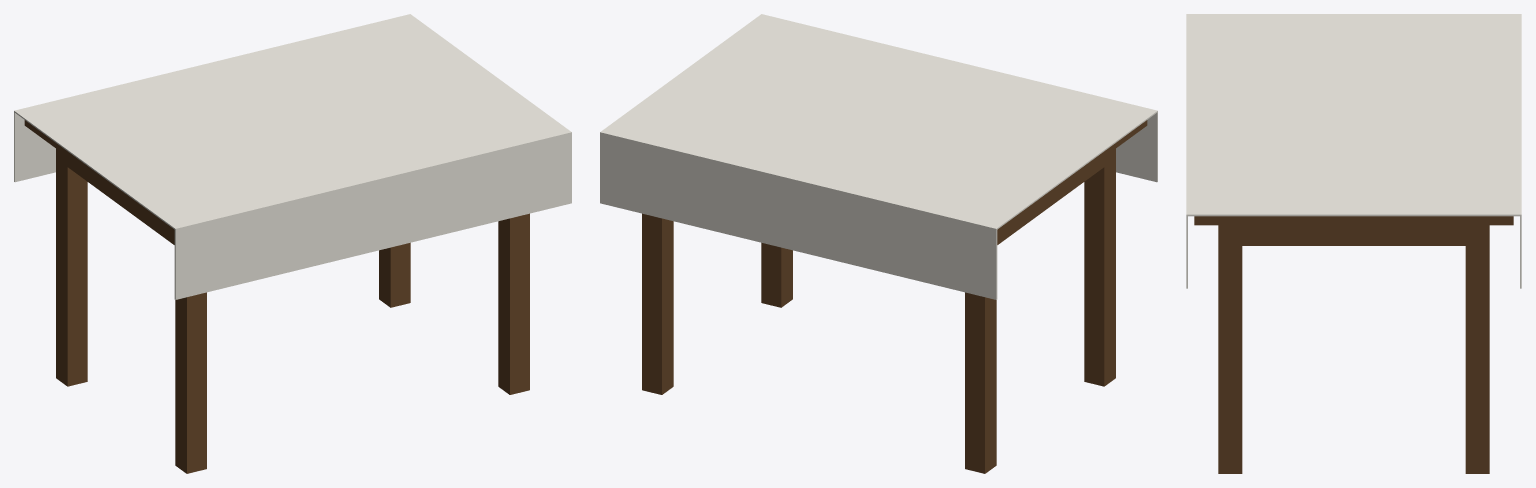
The picture shows the model from 3 angles, left to right: view 1: azimuth 30°, elevation 25°; view 2: azimuth 150°, elevation 25°; view 3: azimuth 270°, elevation 25°; orthographic projection. The views are drawn at different scales.
Parts seen in each view (by area): view 1: parametric-variant-table-1st-pub-5b8b7144a6aaadb69885; view 2: parametric-variant-table-1st-pub-5b8b7144a6aaadb69885; view 3: parametric-variant-table-1st-pub-5b8b7144a6aaadb69885.
Part boxes in pixels (left/top/right/bottom): parametric-variant-table-1st-pub-5b8b7144a6aaadb69885: left=14, top=14, right=571, bottom=473; parametric-variant-table-1st-pub-5b8b7144a6aaadb69885: left=600, top=14, right=1157, bottom=473; parametric-variant-table-1st-pub-5b8b7144a6aaadb69885: left=1186, top=14, right=1521, bottom=473.
Size of the model in its own units: 1.19 by 0.754 by 0.84.
